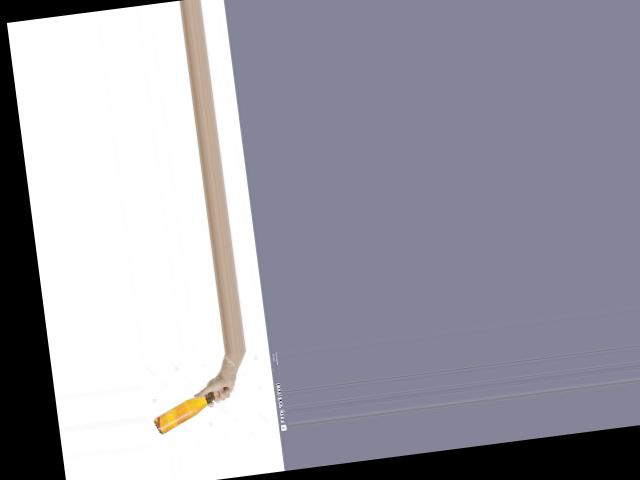beer: (149, 387, 231, 434)
